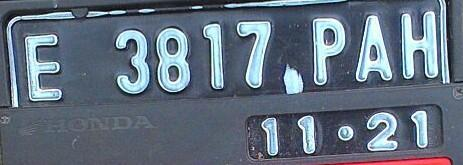clone-license-plate: (4, 3, 462, 157)
